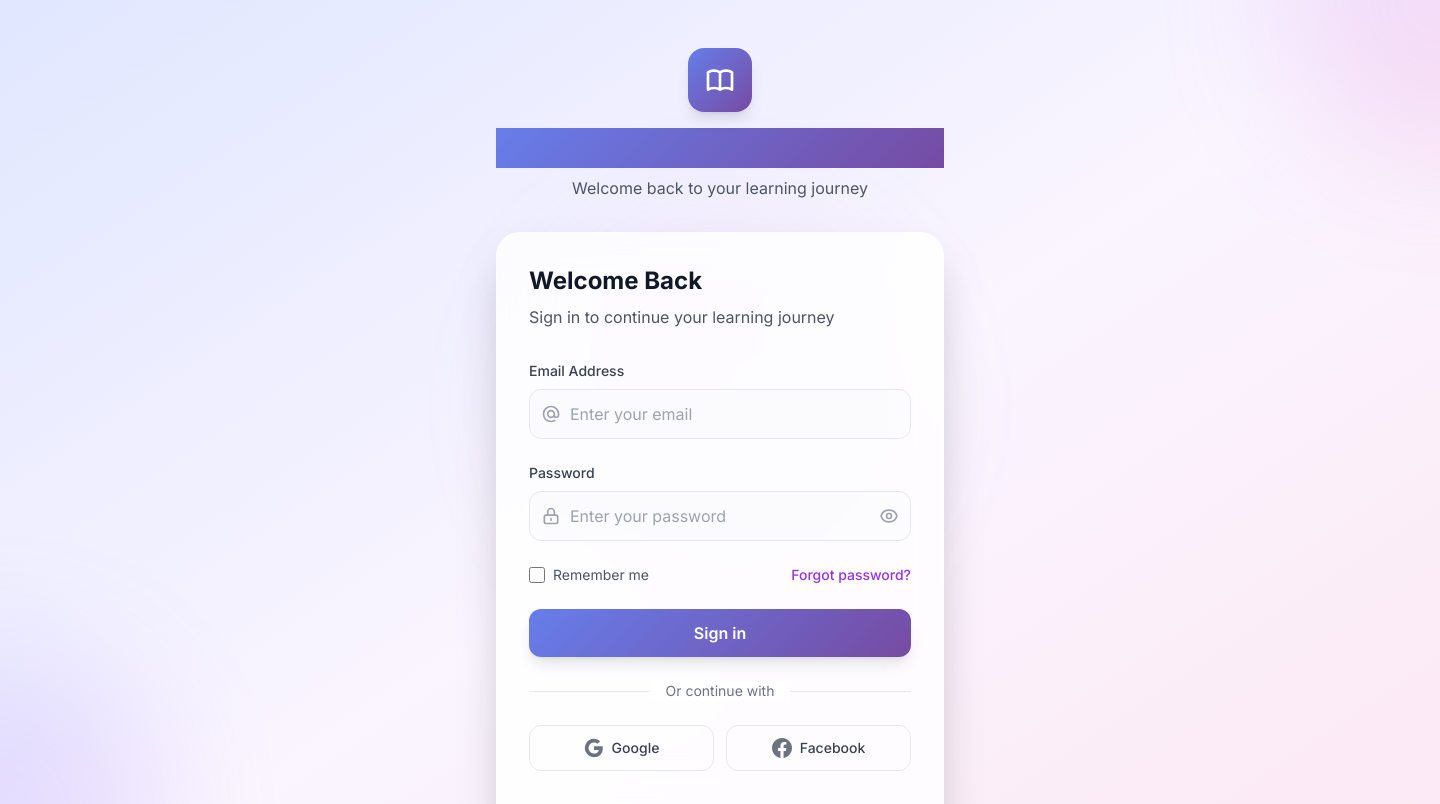
Login Component › handles login error correctly
Type "test@example.com" into the field labelled "Email Address" at (720, 414), box [529,389,911,439]
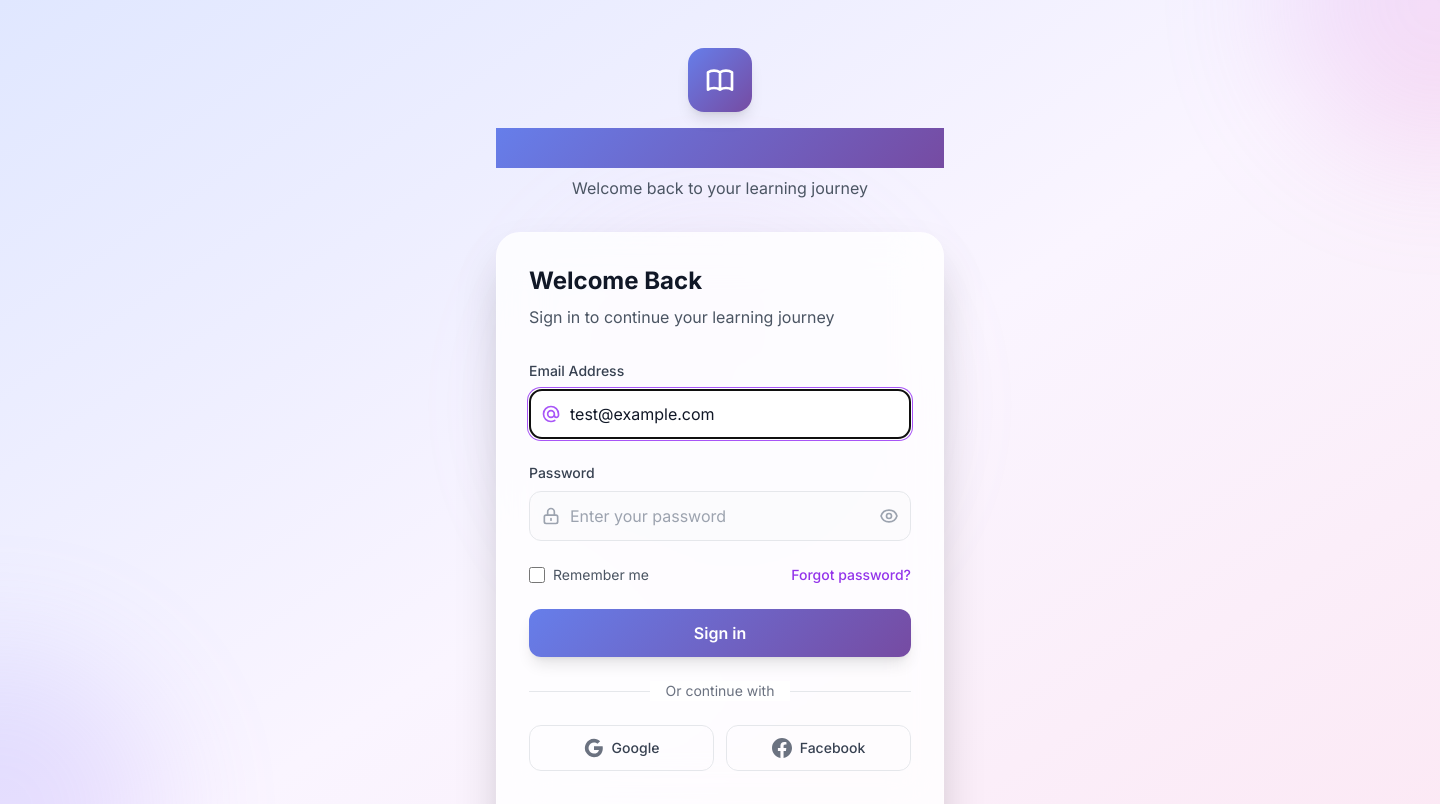
Type "wrongpassword" into the password field labelled "Password" at (720, 516), box [529,491,911,541]
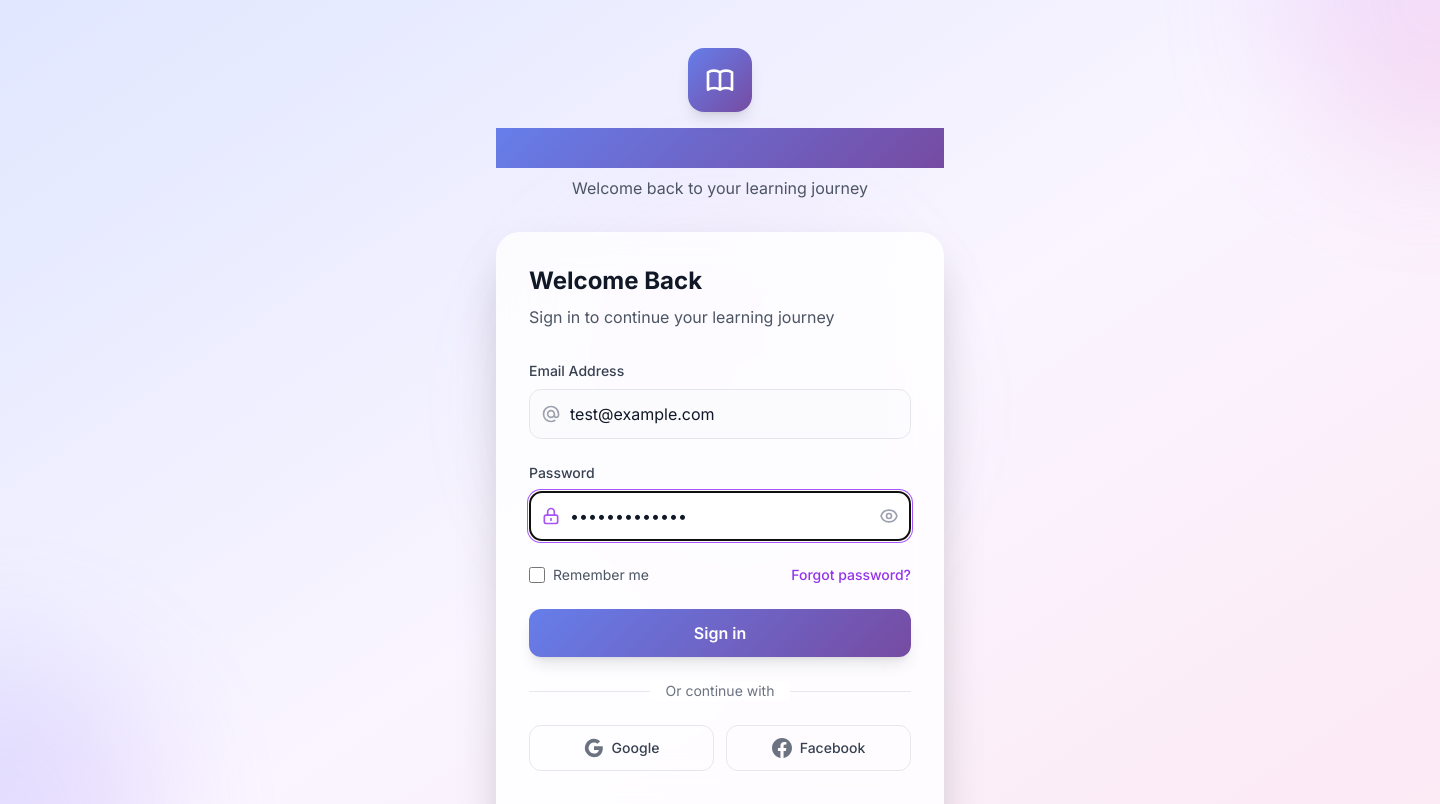
Click the button "Sign in" at (720, 633), box [529,609,911,657]
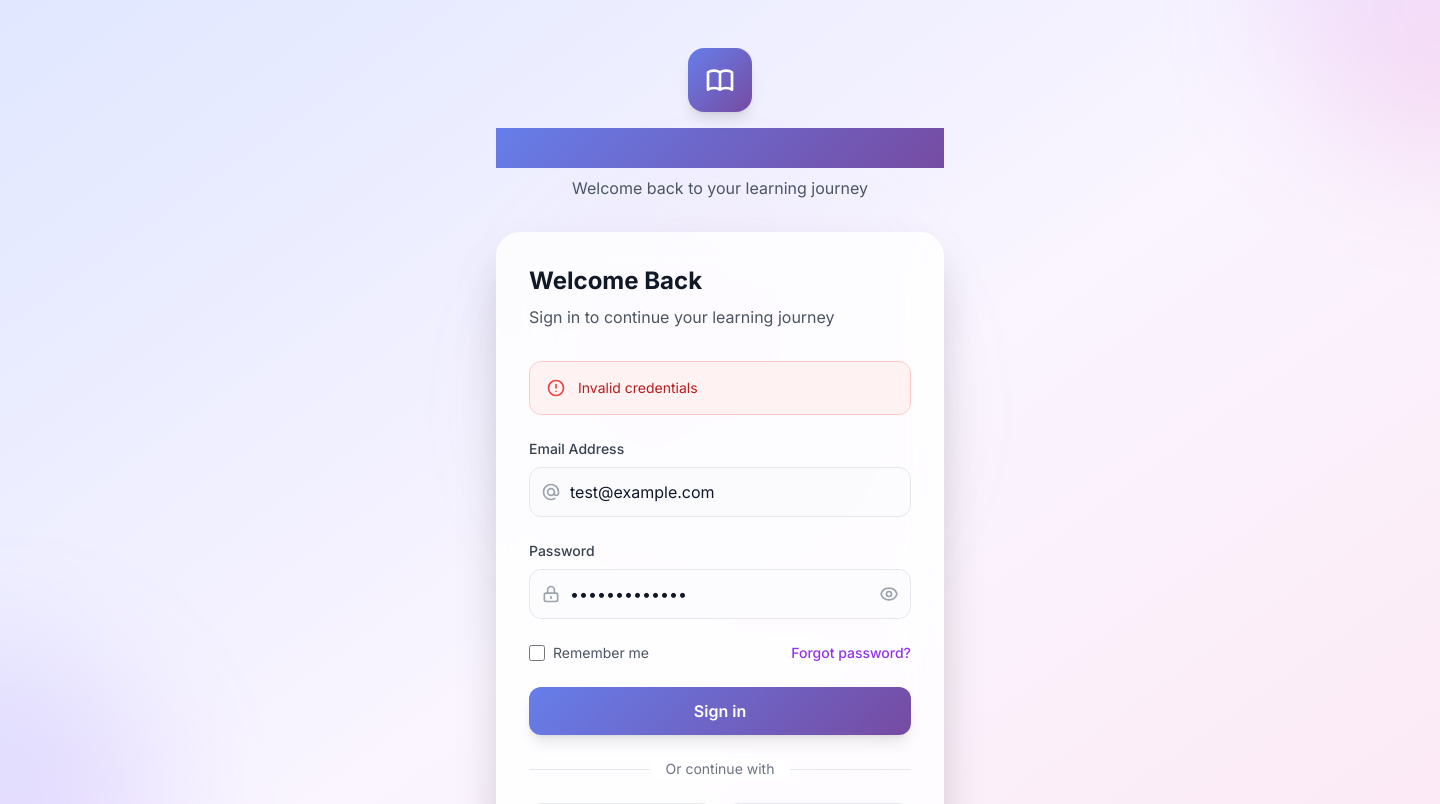
Result: the text "Invalid credentials" is shown at [578,378,698,398]
